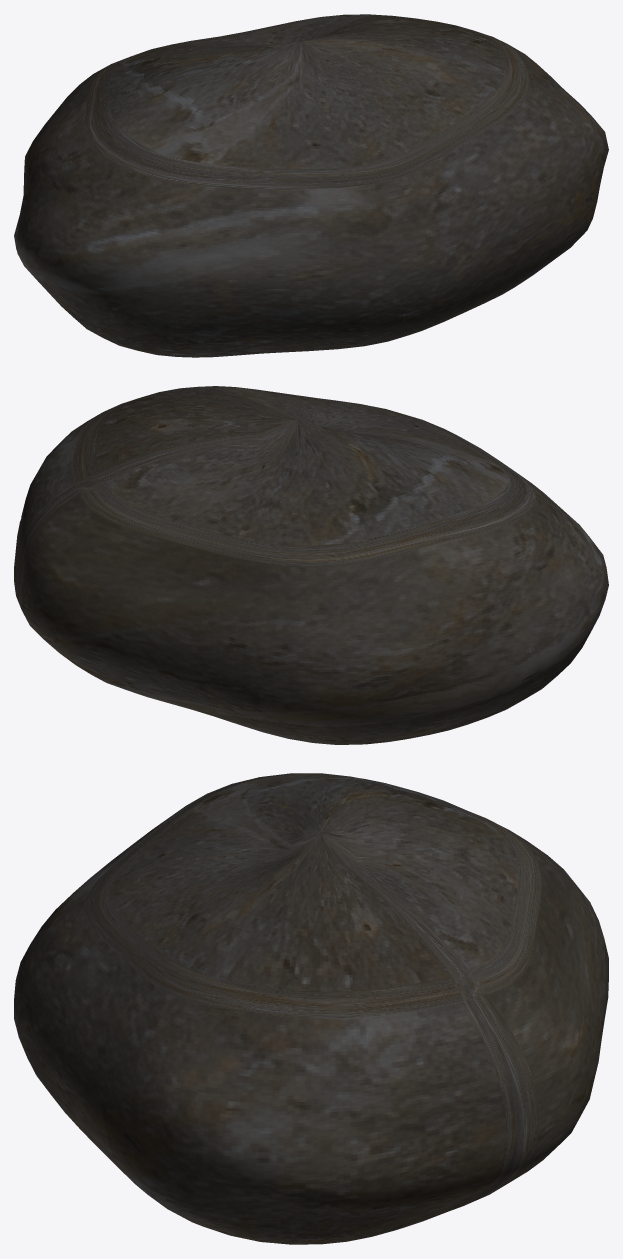
The model's file is variant-03.glb.
3 views of the same model, one above another, from view 1: azimuth 30°, elevation 25°; view 2: azimuth 150°, elevation 25°; view 3: azimuth 270°, elevation 25° (orthographic). The views are drawn at different scales.
Parts seen in each view (by area): view 1: RiverPebble_03; view 2: RiverPebble_03; view 3: RiverPebble_03.
Boxes of the visible parts, <box> form: RiverPebble_03: <box>14,14,608,357</box>; RiverPebble_03: <box>14,386,608,744</box>; RiverPebble_03: <box>14,773,608,1244</box>.
Bounding box in the file's own units: 0.66 × 0.3217 × 0.5126.
Materials: 1 (1 with a texture image).
